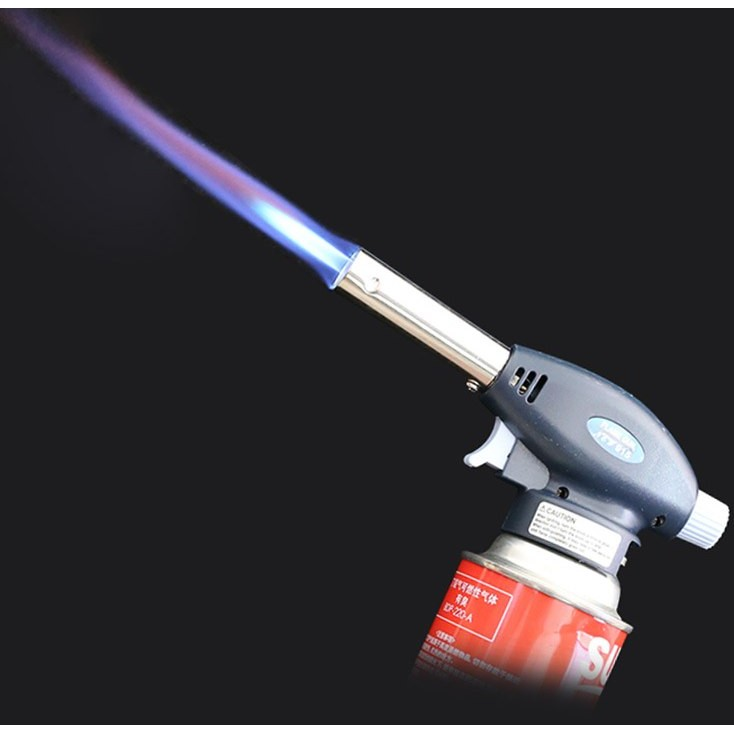gastorch: (326, 229, 734, 707)
